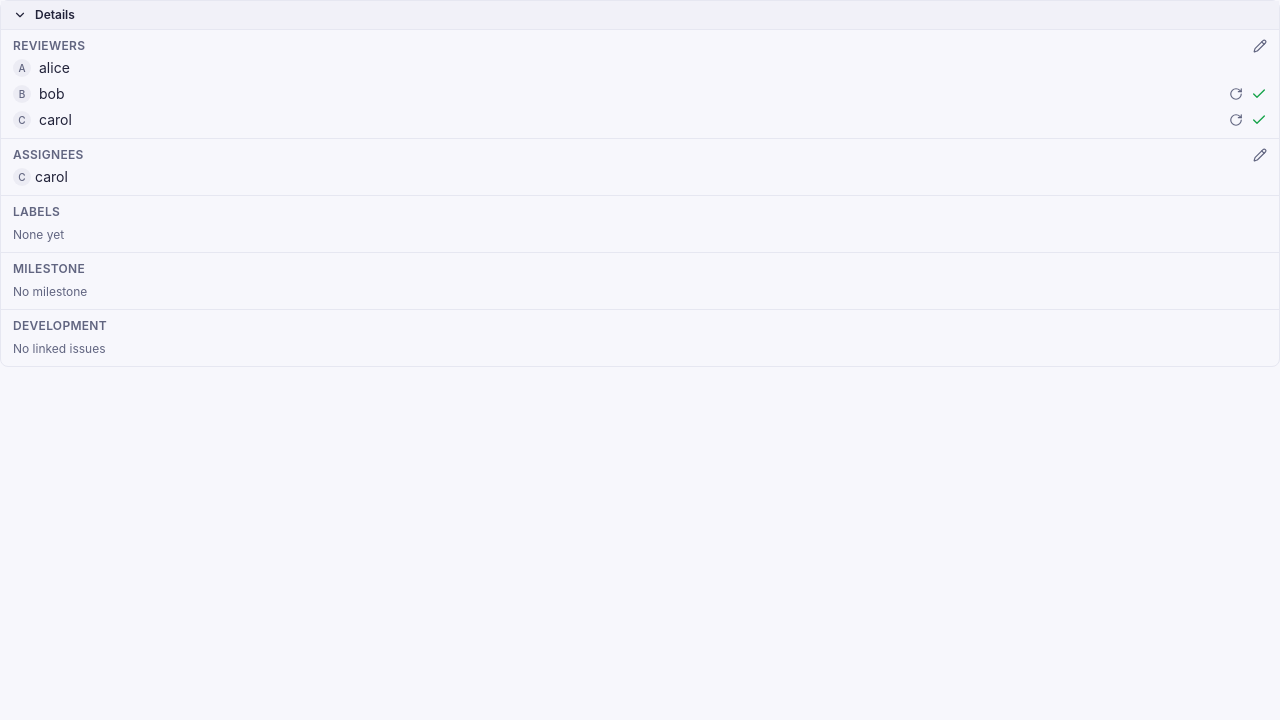
Test: PrDetailsCard reviewers/assignees editing (#334) › A3a: checks exactly outstanding reviewers, leaving a non-reviewer assignee unchecked
The width and height of the screenshot is (1280, 720).
Click the button named "edit reviewers" at (1260, 46), box top-left (1253, 39), bottom-right (1267, 53)
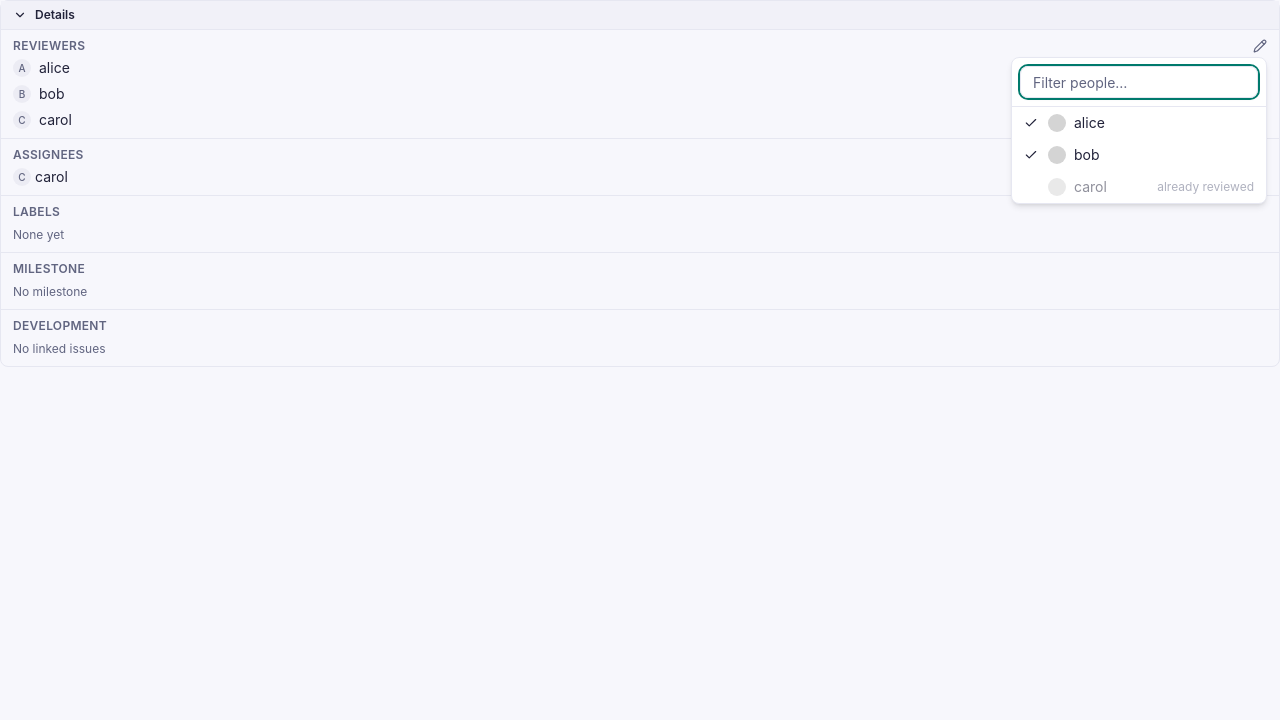
Now the 2nd text "alice" is shown, box top-left (1074, 114), bottom-right (1105, 131)
